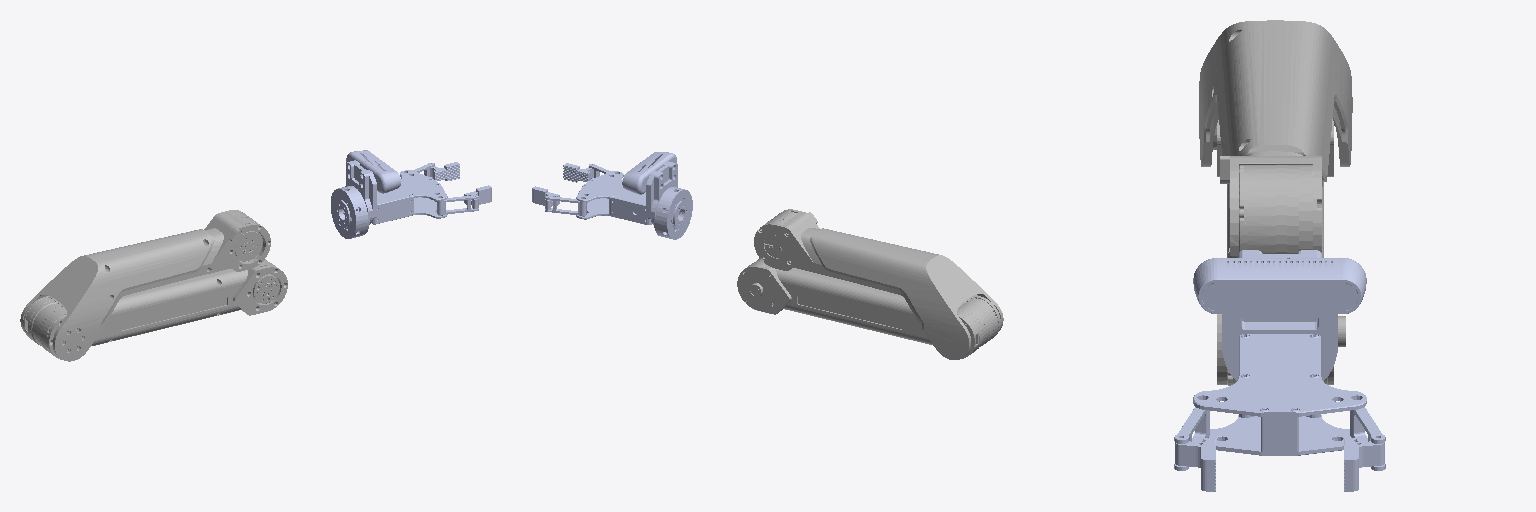
The robot description file, URDF, robot "airbot_play_inspire_eg2_4c_compatible_v1":
<?xml version="1.0" encoding="utf-8" ?>
<!-- This URDF was automatically created by SolidWorks to URDF Exporter! Originally created by [author] ([email redacted]) 
     Commit Version: 1.6.0-4-g7f85cfe  Build Version: 1.6.7995.38578
     For more information, please see http://wiki.ros.org/sw_urdf_exporter -->
<robot name="airbot_play_inspire_eg2_4c_compatible_v1">
    <link name="base_link">
        <inertial>
            <origin xyz="-2.9949E-05 3.0537E-05 0.027284" rpy="0 0 0" />
            <mass value="0.44071" />
            <inertia ixx="0.00017392" ixy="-3.5E-07" ixz="-5.9E-07" iyy="0.00017547" iyz="1.13E-06" izz="0.00015925" />
        </inertial>
        <visual>
            <origin xyz="0 0 0" rpy="0 0 0" />
            <geometry>
                <mesh filename="package://airbot_play_inspire_eg2_4c_compatible_v1/meshes/base_link.STL" />
            </geometry>
            <material name="">
                <color rgba="0.75294 0.75294 0.75294 1" />
            </material>
        </visual>
        <collision>
            <origin xyz="0 0 0" rpy="0 0 0" />
            <geometry>
                <mesh filename="package://airbot_play_inspire_eg2_4c_compatible_v1/meshes/base_link.STL" />
            </geometry>
        </collision>
    </link>
    <link name="link1">
        <inertial>
            <origin xyz="-0.00011034 -6.8411E-06 -0.023655" rpy="0 0 0" />
            <mass value="0.078163" />
            <inertia ixx="9.22E-05" ixy="-1E-08" ixz="5E-08" iyy="3.014E-05" iyz="-7.4E-07" izz="8.652E-05" />
        </inertial>
        <visual>
            <origin xyz="0 0 0" rpy="0 0 0" />
            <geometry>
                <mesh filename="package://airbot_play_inspire_eg2_4c_compatible_v1/meshes/link1.STL" />
            </geometry>
            <material name="">
                <color rgba="0.75294 0.75294 0.75294 1" />
            </material>
        </visual>
        <collision>
            <origin xyz="0 0 0" rpy="0 0 0" />
            <geometry>
                <mesh filename="package://airbot_play_inspire_eg2_4c_compatible_v1/meshes/link1.STL" />
            </geometry>
        </collision>
    </link>
    <joint name="joint1" type="revolute">
        <origin xyz="0 0 0.1005" rpy="0 0 0" />
        <parent link="base_link" />
        <child link="link1" />
        <axis xyz="0 0 1" />
        <limit lower="-10" upper="10" effort="100" velocity="110" />
    </joint>
    <link name="link2">
        <inertial>
            <origin xyz="0.13157 0.00062386 -0.0022903" rpy="0 0 0" />
            <mass value="1.0604" />
            <inertia ixx="0.00049116" ixy="5.47E-06" ixz="6.4E-07" iyy="0.01580055" iyz="1.04E-06" izz="0.01574902" />
        </inertial>
        <visual>
            <origin xyz="0 0 0" rpy="0 0 0" />
            <geometry>
                <mesh filename="package://airbot_play_inspire_eg2_4c_compatible_v1/meshes/link2.STL" />
            </geometry>
            <material name="">
                <color rgba="0.75294 0.75294 0.75294 1" />
            </material>
        </visual>
        <collision>
            <origin xyz="0 0 0" rpy="0 0 0" />
            <geometry>
                <mesh filename="package://airbot_play_inspire_eg2_4c_compatible_v1/meshes/link2.STL" />
            </geometry>
        </collision>
    </link>
    <joint name="joint2" type="revolute">
        <origin xyz="0 0 0" rpy="-1.5708 0 3.1416" />
        <parent link="link1" />
        <child link="link2" />
        <axis xyz="0 0 1" />
        <limit lower="-10" upper="10" effort="100" velocity="110" />
    </joint>
    <link name="link3">
        <inertial>
            <origin xyz="0.18065 0.0086528 0.0017767" rpy="0 0 0" />
            <mass value="0.55999" />
            <inertia ixx="0.00044245" ixy="-0.00043669" ixz="-9.35E-06" iyy="0.0052357" iyz="-9.31E-06" izz="0.0052474" />
        </inertial>
        <visual>
            <origin xyz="0 0 0" rpy="0 0 0" />
            <geometry>
                <mesh filename="package://airbot_play_inspire_eg2_4c_compatible_v1/meshes/link3.STL" />
            </geometry>
            <material name="">
                <color rgba="0.75294 0.75294 0.75294 1" />
            </material>
        </visual>
        <collision>
            <origin xyz="0 0 0" rpy="0 0 0" />
            <geometry>
                <mesh filename="package://airbot_play_inspire_eg2_4c_compatible_v1/meshes/link3.STL" />
            </geometry>
        </collision>
    </link>
    <joint name="joint3" type="revolute">
        <origin xyz="0.264 0 0" rpy="0 0 -2.9159" />
        <parent link="link2" />
        <child link="link3" />
        <axis xyz="0 0 1" />
        <limit lower="-10" upper="10" effort="100" velocity="110" />
    </joint>
    <link name="link4">
        <inertial>
            <origin xyz="0.054496 -0.0020302 0.0011432" rpy="0 0 0" />
            <mass value="0.34333" />
            <inertia ixx="0.00017672" ixy="2.2E-06" ixz="-1.227E-05" iyy="0.00026353" iyz="-5.14E-06" izz="0.00022296" />
        </inertial>
        <visual>
            <origin xyz="0 0 0" rpy="0 0 0" />
            <geometry>
                <mesh filename="package://airbot_play_inspire_eg2_4c_compatible_v1/meshes/link4.STL" />
            </geometry>
            <material name="">
                <color rgba="0.75294 0.75294 0.75294 1" />
            </material>
        </visual>
        <collision>
            <origin xyz="0 0 0" rpy="0 0 0" />
            <geometry>
                <mesh filename="package://airbot_play_inspire_eg2_4c_compatible_v1/meshes/link4.STL" />
            </geometry>
        </collision>
    </link>
    <joint name="joint4" type="revolute">
        <origin xyz="0.25137 0 -0.002" rpy="0 0 -0.22569" />
        <parent link="link3" />
        <child link="link4" />
        <axis xyz="0 0 1" />
        <limit lower="-10" upper="10" effort="100" velocity="110" />
    </joint>
    <link name="link5">
        <inertial>
            <origin xyz="-0.00042679 0.053307 0.00073106" rpy="0 0 0" />
            <mass value="0.33126" />
            <inertia ixx="0.00040201" ixy="1.6E-06" ixz="-5.07E-06" iyy="0.00042082" iyz="1.75E-06" izz="0.00036657" />
        </inertial>
        <visual>
            <origin xyz="0 0 0" rpy="0 0 0" />
            <geometry>
                <mesh filename="package://airbot_play_inspire_eg2_4c_compatible_v1/meshes/link5.STL" />
            </geometry>
            <material name="">
                <color rgba="0.75294 0.75294 0.75294 1" />
            </material>
        </visual>
        <collision>
            <origin xyz="0 0 0" rpy="0 0 0" />
            <geometry>
                <mesh filename="package://airbot_play_inspire_eg2_4c_compatible_v1/meshes/link5.STL" />
            </geometry>
        </collision>
    </link>
    <joint name="joint5" type="revolute">
        <origin xyz="0.06 0 0" rpy="-1.5708 -1.5708 0" />
        <parent link="link4" />
        <child link="link5" />
        <axis xyz="0 0 1" />
        <limit lower="-10" upper="10" effort="100" velocity="110" />
    </joint>
    <link name="gripper_link">
        <inertial>
            <origin xyz="-0.000179 -0.012920 0.118245" rpy="0 0 0" />
            <mass value="0.202483822224683" />
            <inertia ixx="8.72656224038094E-05" ixy="2.1157802312087E-09" ixz="4.46212258304102E-07" iyy="0.000110884338373626" iyz="3.53923491606382E-06" izz="9.50216775187288E-05" />
        </inertial>
        <visual>
            <origin xyz="0 0 0" rpy="0 0 0" />
            <geometry>
                <mesh filename="package://airbot_play_inspire_eg2_4c_compatible_v1/meshes/gripper_link.STL" />
            </geometry>
            <material name="">
                <color rgba="0.792156862745098 0.819607843137255 0.933333333333333 1" />
            </material>
        </visual>
        <collision>
            <origin xyz="0 0 0" rpy="0 0 0" />
            <geometry>
                <mesh filename="package://airbot_play_inspire_eg2_4c_compatible_v1/meshes/gripper_link.STL" />
            </geometry>
        </collision>
    </link>
    <joint name="joint6" type="revolute">
        <origin xyz="0 0 0" rpy="-1.5708 0 0" />
        <parent link="link5" />
        <child link="gripper_link" />
        <axis xyz="0 0 1" />
        <limit lower="-10" upper="10" effort="100" velocity="1000" />
    </joint>
    <link name="gripper_link10">
        <inertial>
            <origin xyz="0.0162376775855017 0.00170828143838967 1.60704782814491E-14" rpy="0 0 0" />
            <mass value="0.00248574193257273" />
            <inertia ixx="1.1187321281772E-07" ixy="-6.68088965340704E-19" ixz="-1.14085928959275E-18" iyy="6.84359115875508E-07" iyz="-3.99246934174549E-19" izz="5.89072994948579E-07" />
        </inertial>
        <visual>
            <origin xyz="0 0 0" rpy="0 0 0" />
            <geometry>
                <mesh filename="package://airbot_play_inspire_eg2_4c_compatible_v1/meshes/gripper_link10.STL" />
            </geometry>
            <material name="">
                <color rgba="0.792156862745098 0.819607843137255 0.933333333333333 1" />
            </material>
        </visual>
        <collision>
            <origin xyz="0 0 0" rpy="0 0 0" />
            <geometry>
                <mesh filename="package://airbot_play_inspire_eg2_4c_compatible_v1/meshes/gripper_link10.STL" />
            </geometry>
        </collision>
    </link>
    <joint name="joint_gripper10" type="revolute">
        <origin xyz="-0.038533 0.00036 0.18735" rpy="-1.5708 -1.304 3.1416" />
        <parent link="gripper_link" />
        <child link="gripper_link10" />
        <axis xyz="0 0 1" />
        <limit lower="-10" upper="10" effort="100" velocity="110" />
    </joint>
    <link name="gripper_link11">
        <inertial>
            <origin xyz="-0.0110043692378349 0.00972866237979003 -3.15436854414486E-09" rpy="0 0 0" />
            <mass value="0.00450681926243327" />
            <inertia ixx="1.99225999101227E-07" ixy="9.189631443366E-08" ixz="1.32669175648538E-13" iyy="5.14550853833888E-07" iyz="-4.49972931710022E-14" izz="5.32027763416069E-07" />
        </inertial>
        <visual>
            <origin xyz="0 0 0" rpy="0 0 0" />
            <geometry>
                <mesh filename="package://airbot_play_inspire_eg2_4c_compatible_v1/meshes/gripper_link11.STL" />
            </geometry>
            <material name="">
                <color rgba="0.792156862745098 0.819607843137255 0.933333333333333 1" />
            </material>
        </visual>
        <collision>
            <origin xyz="0 0 0" rpy="0 0 0" />
            <geometry>
                <mesh filename="package://airbot_play_inspire_eg2_4c_compatible_v1/meshes/gripper_link11.STL" />
            </geometry>
        </collision>
    </link>
    <joint name="joint_gripper11" type="revolute">
        <origin xyz="0.041998 -0.00037577 0" rpy="0 0 2.8658" />
        <parent link="gripper_link10" />
        <child link="gripper_link11" />
        <axis xyz="0 0 1" />
        <limit lower="-10" upper="10" effort="100" velocity="110" />
    </joint>
    <link name="gripper_link20">
        <inertial>
            <origin xyz="0.0160458916846533 0.00170815882510347 -1.61815005839117E-14" rpy="0 0 0" />
            <mass value="0.0024857419325728" />
            <inertia ixx="1.11873212817726E-07" ixy="6.5445041140093E-19" ixz="1.13838047913434E-18" iyy="6.84359115875493E-07" iyz="-3.98790262211301E-19" izz="5.8907299494856E-07" />
        </inertial>
        <visual>
            <origin xyz="0 0 0" rpy="0 0 0" />
            <geometry>
                <mesh filename="package://airbot_play_inspire_eg2_4c_compatible_v1/meshes/gripper_link20.STL" />
            </geometry>
            <material name="">
                <color rgba="0.792156862745098 0.819607843137255 0.933333333333333 1" />
            </material>
        </visual>
        <collision>
            <origin xyz="0 0 0" rpy="0 0 0" />
            <geometry>
                <mesh filename="package://airbot_play_inspire_eg2_4c_compatible_v1/meshes/gripper_link20.STL" />
            </geometry>
        </collision>
    </link>
    <joint name="joint_gripper20" type="revolute">
        <origin xyz="0.041464 0.00036 0.18664" rpy="1.5708 -1.304 0" />
        <parent link="gripper_link" />
        <child link="gripper_link20" />
        <axis xyz="0 0 1" />
        <limit lower="-10" upper="10" effort="100" velocity="110" />
    </joint>
    <link name="gripper_link21">
        <inertial>
            <origin xyz="-0.0117059608928904 -0.0140030860218414 3.11077152925776E-09" rpy="0 0 0" />
            <mass value="0.00450681912675432" />
            <inertia ixx="2.02615006762524E-07" ixy="-9.74786442765277E-08" ixz="-1.30502494006714E-13" iyy="5.11161832405036E-07" iyz="-4.71432886532517E-14" izz="5.32027750665231E-07" />
        </inertial>
        <visual>
            <origin xyz="0 0 0" rpy="0 0 0" />
            <geometry>
                <mesh filename="package://airbot_play_inspire_eg2_4c_compatible_v1/meshes/gripper_link21.STL" />
            </geometry>
            <material name="">
                <color rgba="0.792156862745098 0.819607843137255 0.933333333333333 1" />
            </material>
        </visual>
        <collision>
            <origin xyz="0 0 0" rpy="0 0 0" />
            <geometry>
                <mesh filename="package://airbot_play_inspire_eg2_4c_compatible_v1/meshes/gripper_link21.STL" />
            </geometry>
        </collision>
    </link>
    <joint name="joint_gripper21" type="revolute">
        <origin xyz="0.041998 -0.00037577 0" rpy="0 0 -2.8837" />
        <parent link="gripper_link20" />
        <child link="gripper_link21" />
        <axis xyz="0 0 1" />
        <limit lower="-10" upper="10" effort="100" velocity="110" />
    </joint>
    <link name="custom_end_link">
        <inertial>
            <origin xyz="0 0 0" rpy="0 0 0" />
            <mass value="1E-15" />
            <inertia ixx="1E-11" ixy="1E-15" ixz="1E-15" iyy="1E-11" iyz="1E-15" izz="1E-11" />
        </inertial>
    </link>
    <joint name="joint_custom_end" type="fixed">
        <origin xyz="0 0 0.255" rpy="0 0 -1.5708" />
        <parent link="gripper_link" />
        <child link="custom_end_link" />
    </joint>
    <transmission name="trans_joint1">
        <type>transmission_interface/SimpleTransmission</type>
        <joint name="joint1">
            <hardwareInterface>hardware_interface/PositionJointInterface</hardwareInterface>
        </joint>
        <actuator name="joint1_motor">
            <hardwareInterface>hardware_interface/PositionJointInterface</hardwareInterface>
            <mechanicalReduction>1</mechanicalReduction>
        </actuator>
    </transmission>
    <transmission name="trans_joint2">
        <type>transmission_interface/SimpleTransmission</type>
        <joint name="joint2">
            <hardwareInterface>hardware_interface/PositionJointInterface</hardwareInterface>
        </joint>
        <actuator name="joint2_motor">
            <hardwareInterface>hardware_interface/PositionJointInterface</hardwareInterface>
            <mechanicalReduction>1</mechanicalReduction>
        </actuator>
    </transmission>
    <transmission name="trans_joint3">
        <type>transmission_interface/SimpleTransmission</type>
        <joint name="joint3">
            <hardwareInterface>hardware_interface/PositionJointInterface</hardwareInterface>
        </joint>
        <actuator name="joint3_motor">
            <hardwareInterface>hardware_interface/PositionJointInterface</hardwareInterface>
            <mechanicalReduction>1</mechanicalReduction>
        </actuator>
    </transmission>
    <transmission name="trans_joint4">
        <type>transmission_interface/SimpleTransmission</type>
        <joint name="joint4">
            <hardwareInterface>hardware_interface/PositionJointInterface</hardwareInterface>
        </joint>
        <actuator name="joint4_motor">
            <hardwareInterface>hardware_interface/PositionJointInterface</hardwareInterface>
            <mechanicalReduction>1</mechanicalReduction>
        </actuator>
    </transmission>
    <transmission name="trans_joint5">
        <type>transmission_interface/SimpleTransmission</type>
        <joint name="joint5">
            <hardwareInterface>hardware_interface/PositionJointInterface</hardwareInterface>
        </joint>
        <actuator name="joint5_motor">
            <hardwareInterface>hardware_interface/PositionJointInterface</hardwareInterface>
            <mechanicalReduction>1</mechanicalReduction>
        </actuator>
    </transmission>
    <transmission name="trans_joint6">
        <type>transmission_interface/SimpleTransmission</type>
        <joint name="joint6">
            <hardwareInterface>hardware_interface/PositionJointInterface</hardwareInterface>
        </joint>
        <actuator name="joint6_motor">
            <hardwareInterface>hardware_interface/PositionJointInterface</hardwareInterface>
            <mechanicalReduction>1</mechanicalReduction>
        </actuator>
    </transmission>
    <transmission name="trans_joint_gripper10">
        <type>transmission_interface/SimpleTransmission</type>
        <joint name="joint_gripper10">
            <hardwareInterface>hardware_interface/EffortJointInterface</hardwareInterface>
        </joint>
        <actuator name="joint_gripper10_motor">
            <hardwareInterface>hardware_interface/EffortJointInterface</hardwareInterface>
            <mechanicalReduction>1</mechanicalReduction>
        </actuator>
    </transmission>
    <transmission name="trans_joint_gripper11">
        <type>transmission_interface/SimpleTransmission</type>
        <joint name="joint_gripper11">
            <hardwareInterface>hardware_interface/EffortJointInterface</hardwareInterface>
        </joint>
        <actuator name="joint_gripper11_motor">
            <hardwareInterface>hardware_interface/EffortJointInterface</hardwareInterface>
            <mechanicalReduction>1</mechanicalReduction>
        </actuator>
    </transmission>
    <transmission name="trans_joint_gripper20">
        <type>transmission_interface/SimpleTransmission</type>
        <joint name="joint_gripper20">
            <hardwareInterface>hardware_interface/EffortJointInterface</hardwareInterface>
        </joint>
        <actuator name="joint_gripper20_motor">
            <hardwareInterface>hardware_interface/EffortJointInterface</hardwareInterface>
            <mechanicalReduction>1</mechanicalReduction>
        </actuator>
    </transmission>
    <transmission name="trans_joint_gripper21">
        <type>transmission_interface/SimpleTransmission</type>
        <joint name="joint_gripper21">
            <hardwareInterface>hardware_interface/EffortJointInterface</hardwareInterface>
        </joint>
        <actuator name="joint_gripper21_motor">
            <hardwareInterface>hardware_interface/EffortJointInterface</hardwareInterface>
            <mechanicalReduction>1</mechanicalReduction>
        </actuator>
    </transmission>
    <gazebo>
        <plugin name="gazebo_ros_control">
            <robotNamespace>/</robotNamespace>
        </plugin>
    </gazebo>
</robot>

--- Facts derived from the render (not from the file) ---
The picture shows the robot from 3 angles, left to right: view 1: azimuth 30°, elevation 25°; view 2: azimuth 150°, elevation 25°; view 3: azimuth 270°, elevation 25°; orthographic projection.
Robot: airbot_play_inspire_eg2_4c_compatible_v1 — 12 links, 11 joints (10 revolute, 1 fixed); root link base_link; default pose: all joints at 0.
Visible links, largest first — view 1: link3, link2, gripper_link; view 2: link3, link2, gripper_link; view 3: link3, gripper_link, link2, gripper_link11, gripper_link21, gripper_link10, gripper_link20.
Link boxes in pixels (box(x1,y1,x2,y2)): link3: box(20, 210, 270, 361); link2: box(23, 259, 287, 359); gripper_link: box(331, 150, 447, 238); link3: box(754, 209, 1003, 359); link2: box(737, 258, 1000, 358); gripper_link: box(576, 152, 692, 239); link3: box(1199, 20, 1352, 257); gripper_link: box(1193, 250, 1366, 455); link2: box(1217, 119, 1345, 385); gripper_link11: box(1344, 438, 1384, 491); gripper_link21: box(1175, 438, 1215, 491); gripper_link10: box(1350, 407, 1385, 470); gripper_link20: box(1174, 407, 1209, 470).
Size in the robot's own frame: 0.589 by 0.1096 by 0.1414 metres.
Meshes: 11 distinct files referenced, 7 mesh visuals loaded (7 binary STL); not drawn: 4 (reference not matched to a file when rendering).